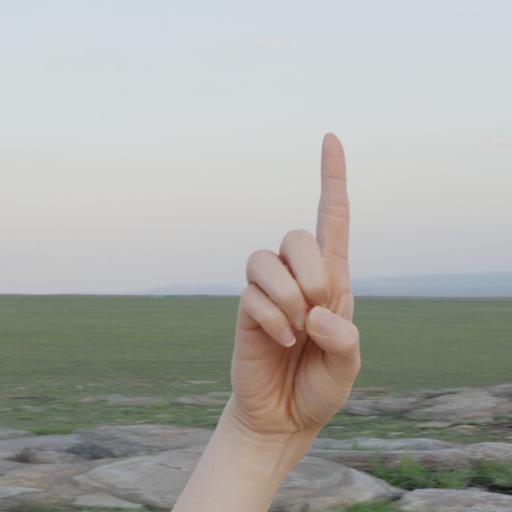D: (224, 114, 383, 456)
